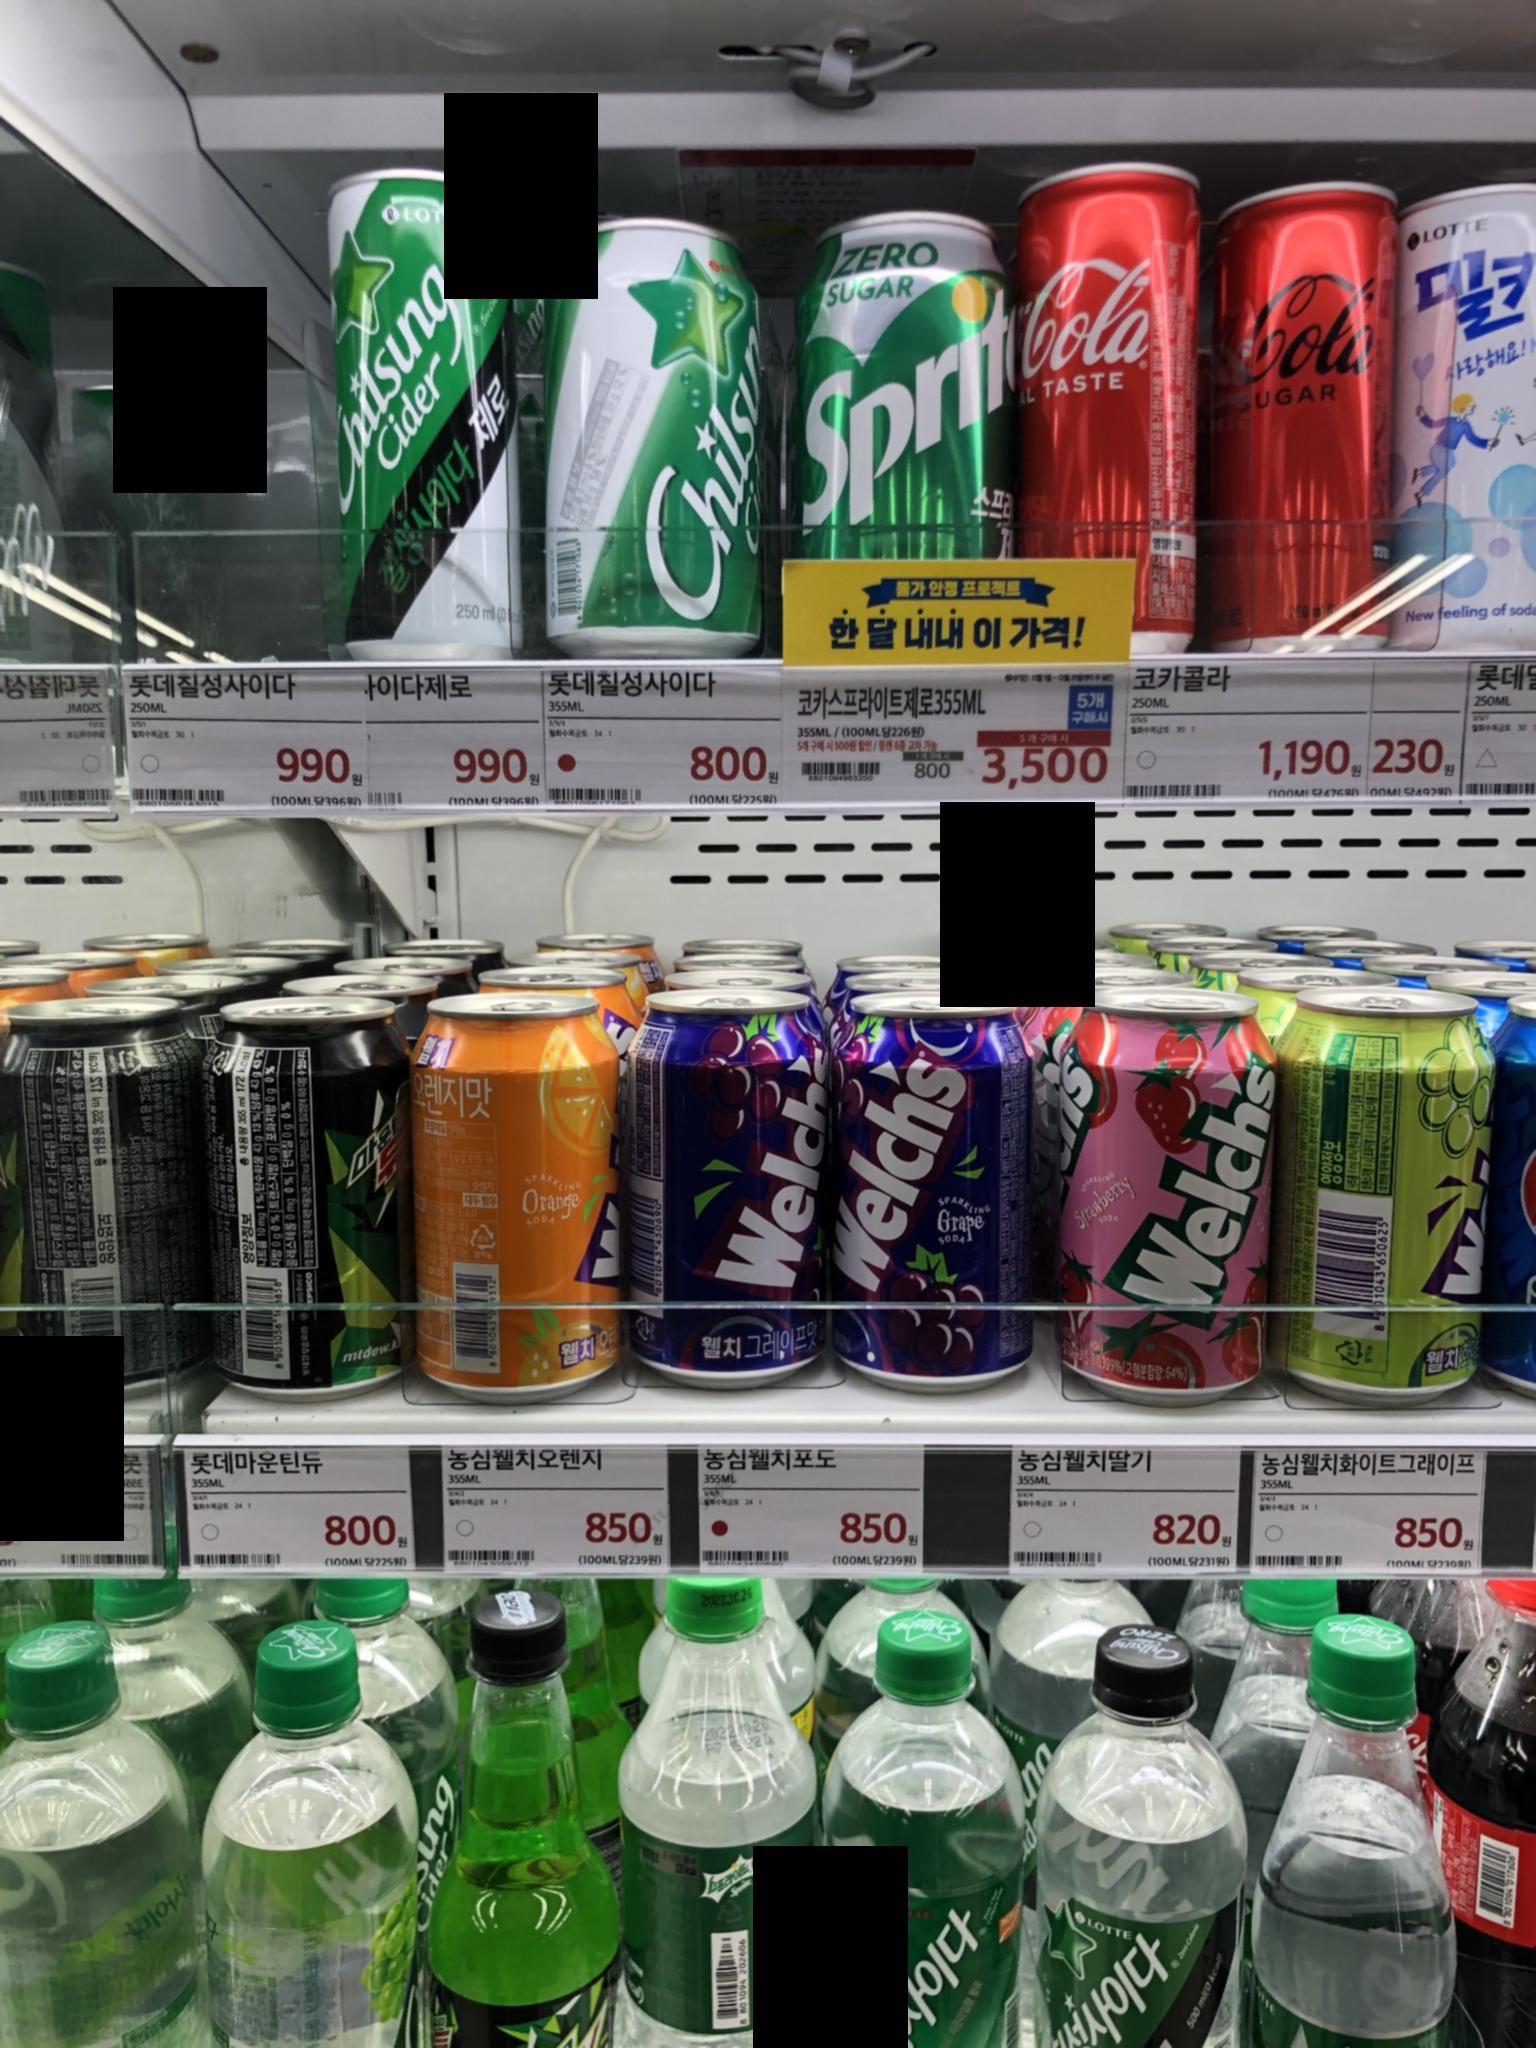chilsungcider: (541, 194, 799, 651)
chilsungcider_zero: (302, 158, 520, 666)
fanta_orange: (418, 985, 618, 1421)
welchs_grape: (829, 990, 1018, 1405), (642, 976, 820, 1393)
